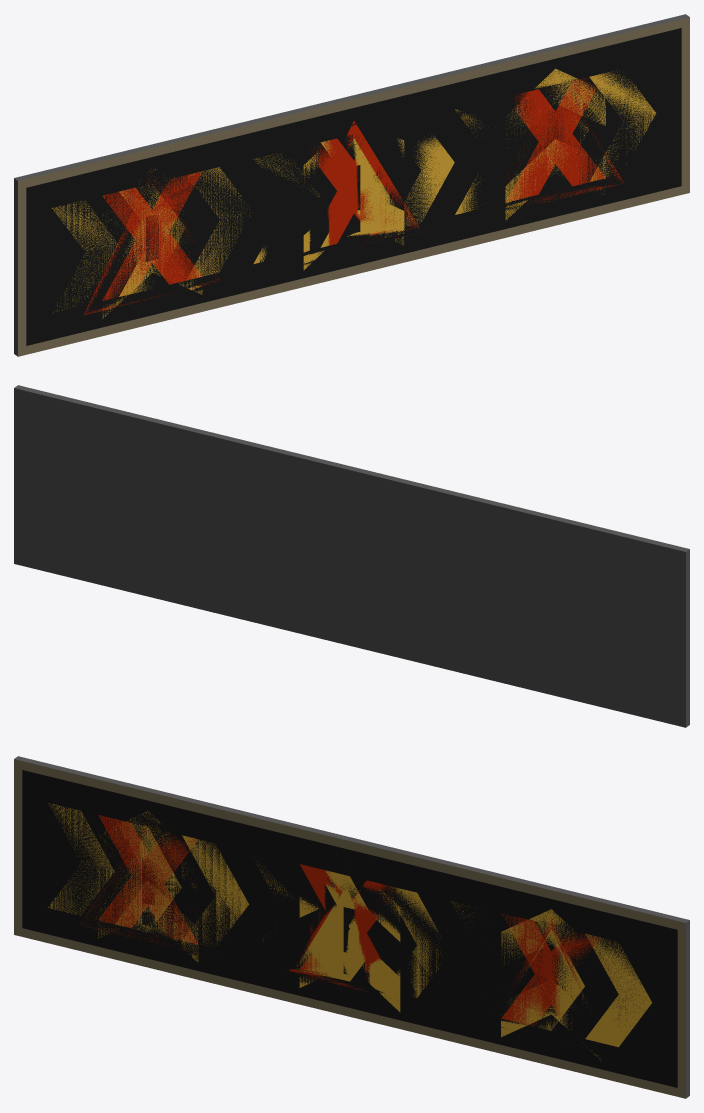
Rendered from signs.glb.
3 renders of one model, top to bottom at view 1: azimuth 30°, elevation 25°; view 2: azimuth 150°, elevation 25°; view 3: azimuth 330°, elevation 25°, orthographic.
Parts seen in each view (by area): view 1: SignWrongWay, SignArrowRight, SignArrowUp, SignWarning; view 2: SignWrongWay, SignArrowRight, SignArrowUp; view 3: SignWrongWay, SignArrowRight, SignArrowUp, SignWarning.
Boxes of the visible parts, x1=… form: SignWrongWay: x1=14, y1=14, x2=689, y2=356; SignArrowRight: x1=14, y1=15, x2=689, y2=356; SignArrowUp: x1=14, y1=16, x2=689, y2=355; SignWarning: x1=26, y1=70, x2=681, y2=338; SignWrongWay: x1=14, y1=385, x2=689, y2=727; SignArrowRight: x1=14, y1=385, x2=689, y2=727; SignArrowUp: x1=14, y1=386, x2=689, y2=726; SignWrongWay: x1=14, y1=756, x2=689, y2=1098; SignArrowRight: x1=14, y1=756, x2=689, y2=1098; SignArrowUp: x1=14, y1=758, x2=687, y2=1096; SignWarning: x1=22, y1=771, x2=677, y2=1087.
Size of the model in its own units: 20 by 5 by 0.21.
